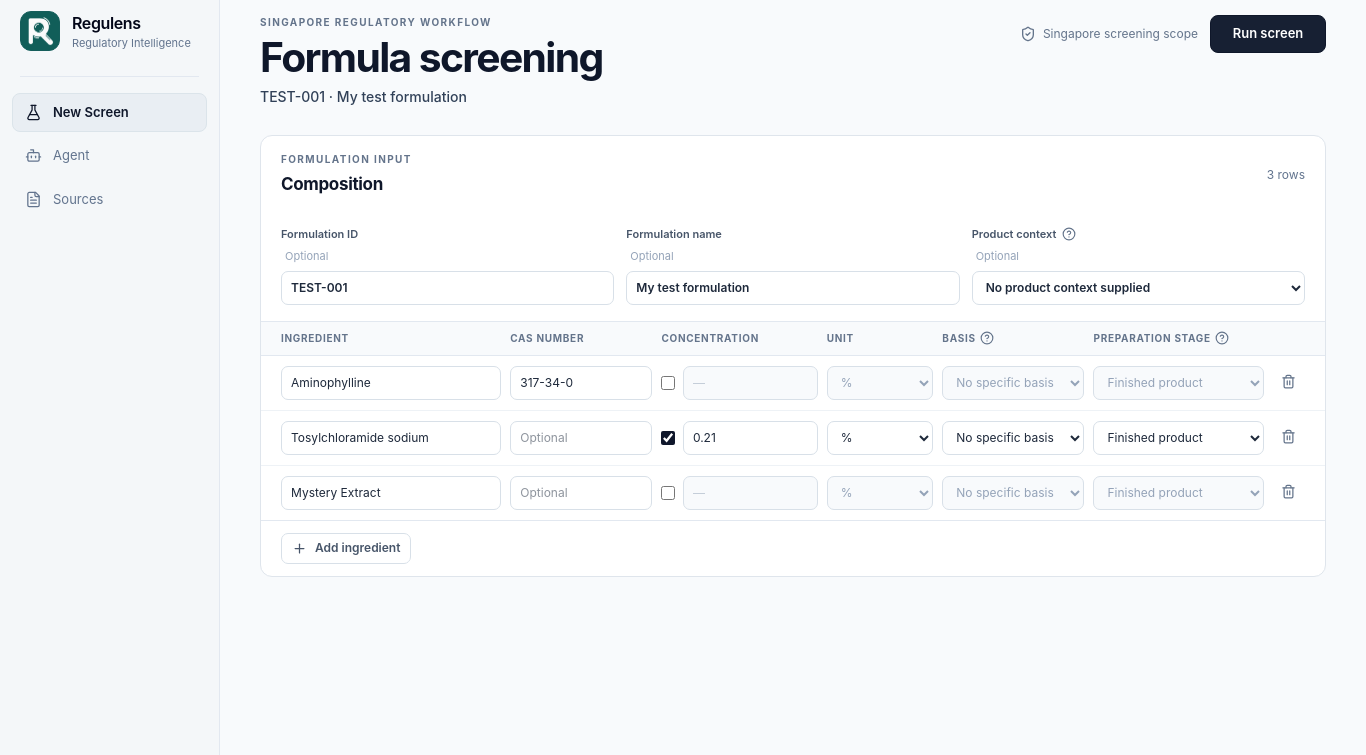
it: formula screening vertical slice › screens TEST-001 and renders row-based results from the API
The width and height of the screenshot is (1366, 755).
Click the button "Run screen" at coordinates (1268, 34), box [1210,15,1326,53]
(page scrolled)
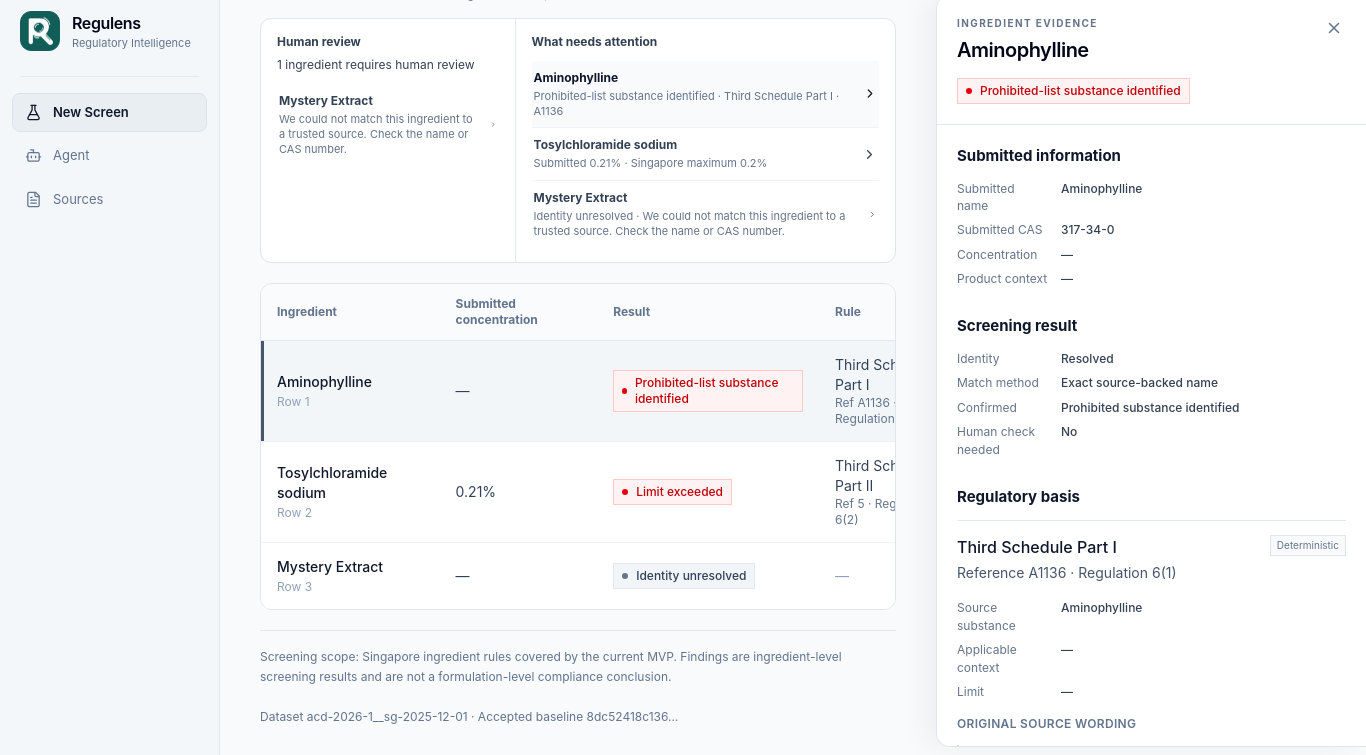
Now the text "Prohibited-list substance identified" is shown, box [613,370,803,412]
Now the text "A1136" is shown, box [534,88,839,118]
Now the 1st text "—" is shown, box [440,340,597,441]
